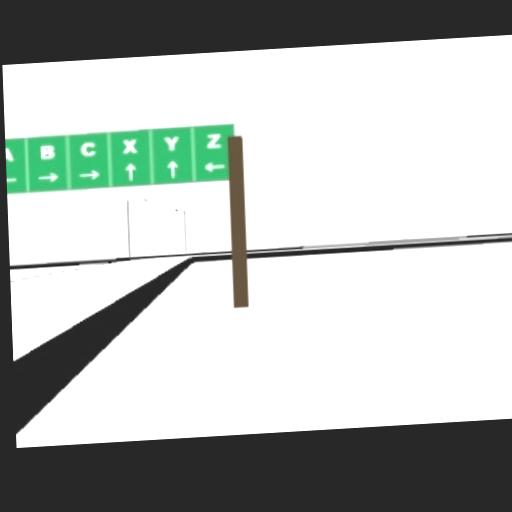B: (39, 143, 56, 160)
C: (79, 140, 96, 157)
Left: (203, 159, 226, 172)
Right: (77, 166, 102, 182), (37, 169, 60, 184)
Straight: (124, 160, 139, 181), (165, 158, 180, 178)
X: (121, 136, 138, 155)
Y: (163, 133, 180, 152)
Z: (205, 132, 222, 150)
